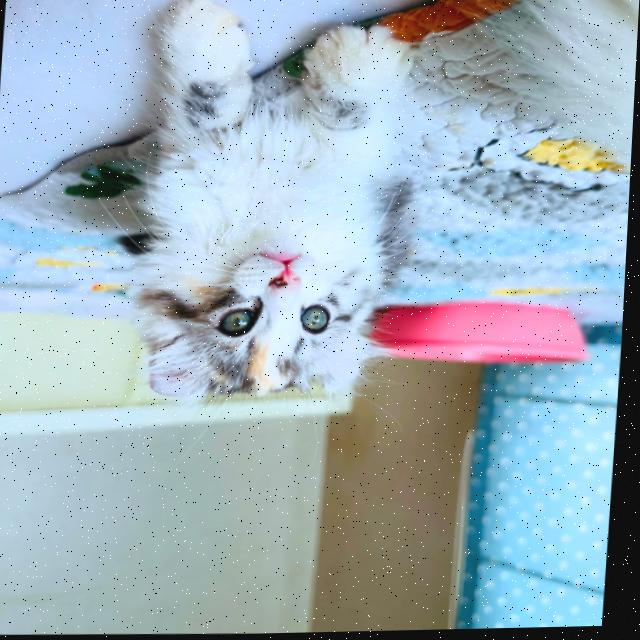American Curl: (127, 0, 434, 413)
